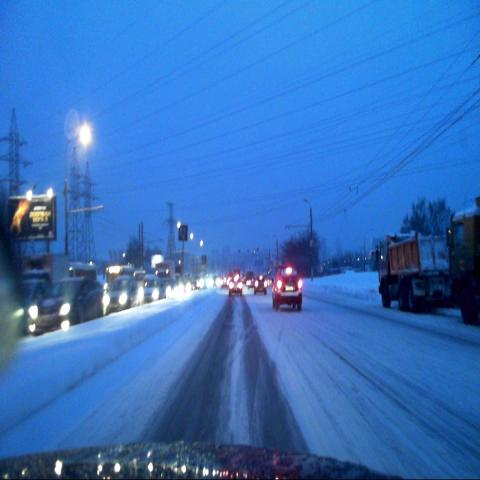5_15_3: (178, 221, 190, 241)
